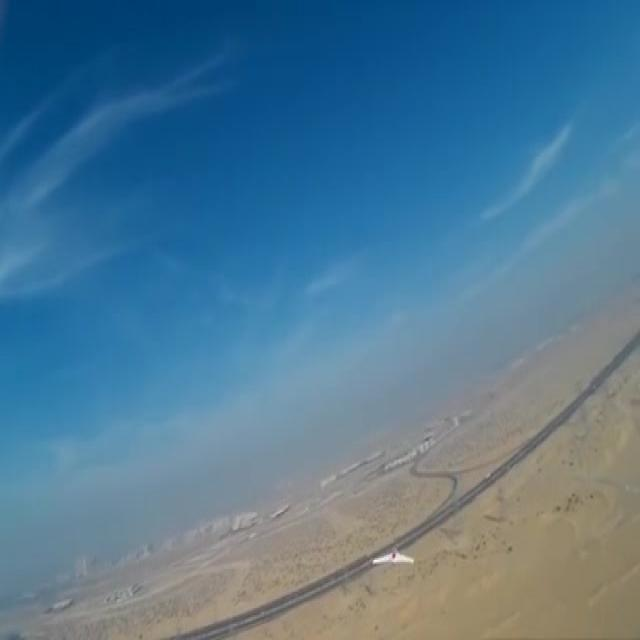iha: (366, 548, 408, 564)
